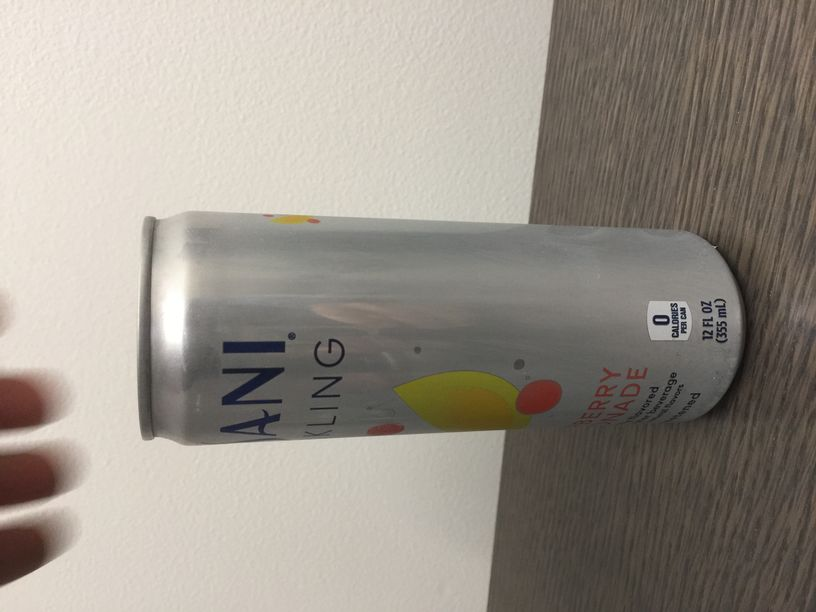lemonade: (351, 353, 652, 439), (250, 213, 330, 233)
